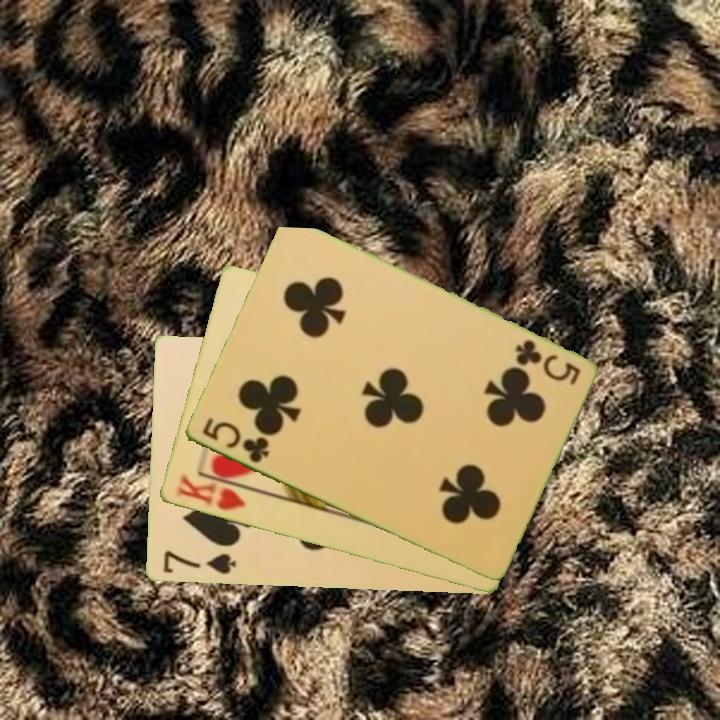5c: (198, 414, 272, 467), (511, 336, 583, 388)
7s: (159, 547, 239, 578)
Kh: (172, 470, 257, 514)
